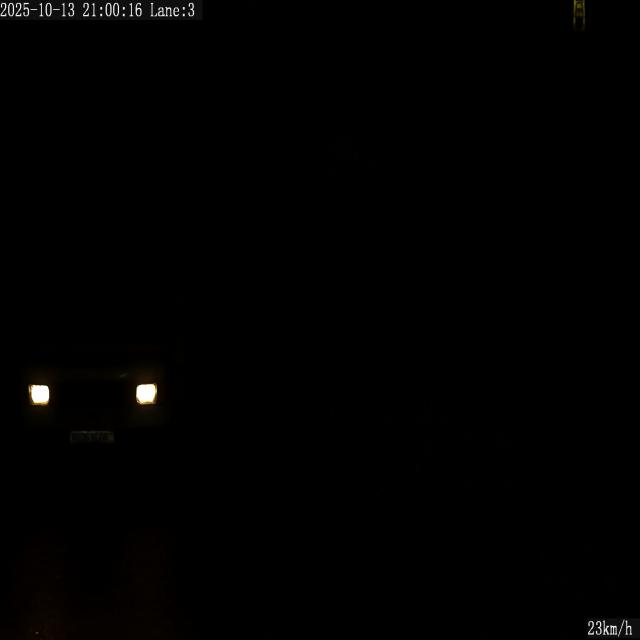BUS: (71, 431, 114, 444)
